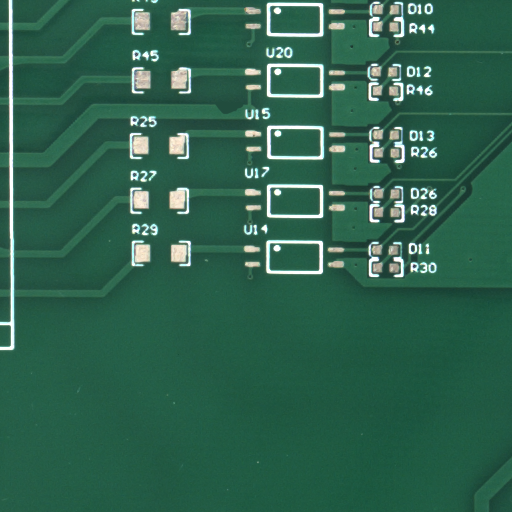Mouse_bite: (229, 106, 265, 125)
